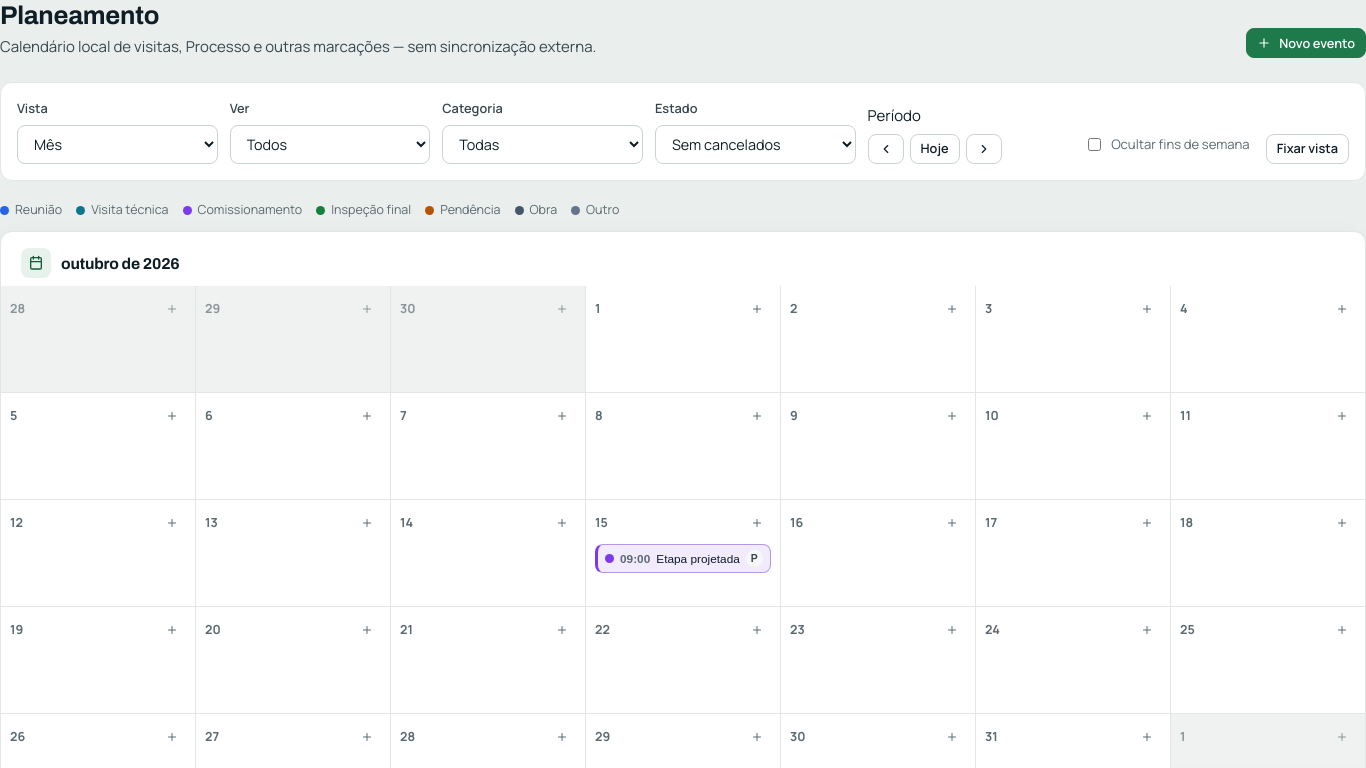
Test case: Planeamento › mostra categoria, todos os responsáveis e ligação read-only ao Processo
Click the text "Etapa projetada": (698, 559) x1=656 y1=552 x2=740 y2=566
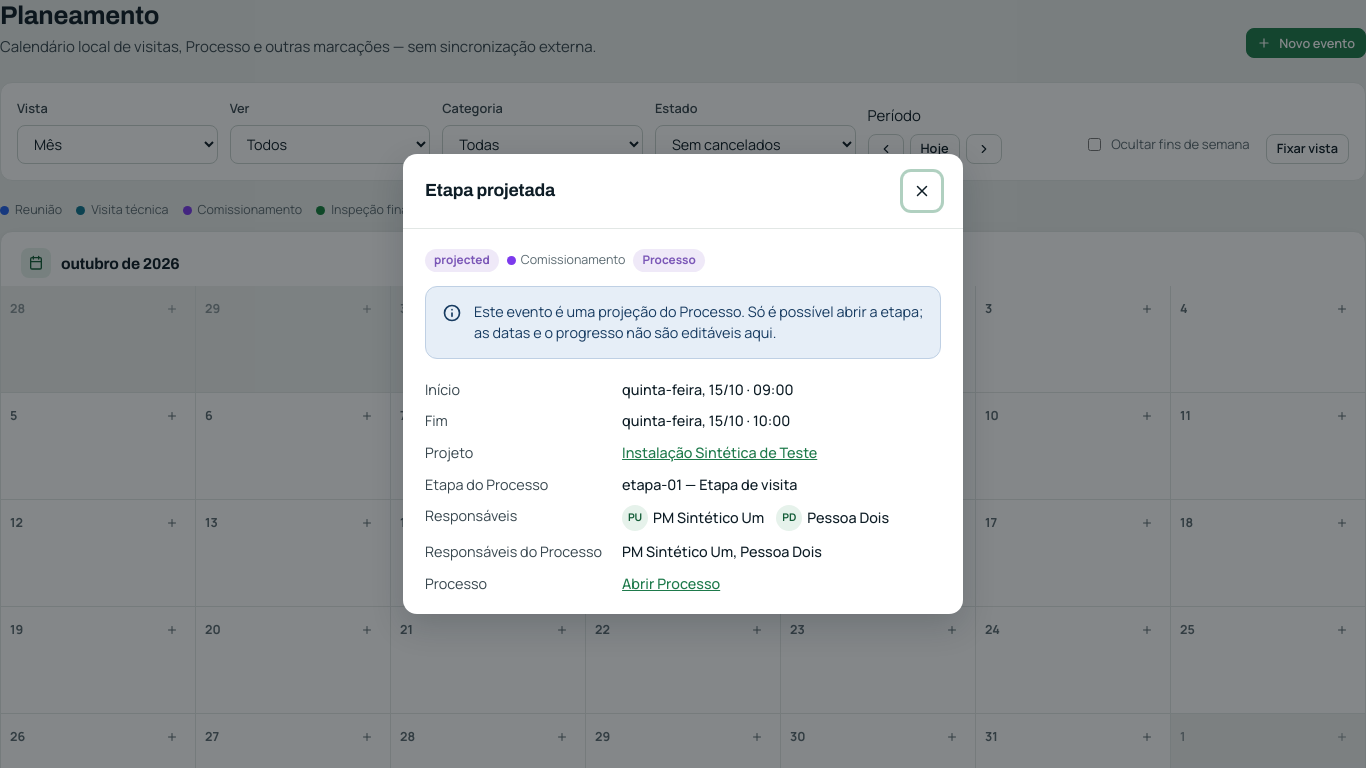
Expected: the text "Comissionamento" is shown, x1=507 y1=251 x2=626 y2=269
Expected: the text "PM Sintético Um" is shown, x1=653 y1=507 x2=764 y2=529
Expected: the text "Pessoa Dois" is shown, x1=807 y1=507 x2=889 y2=529
